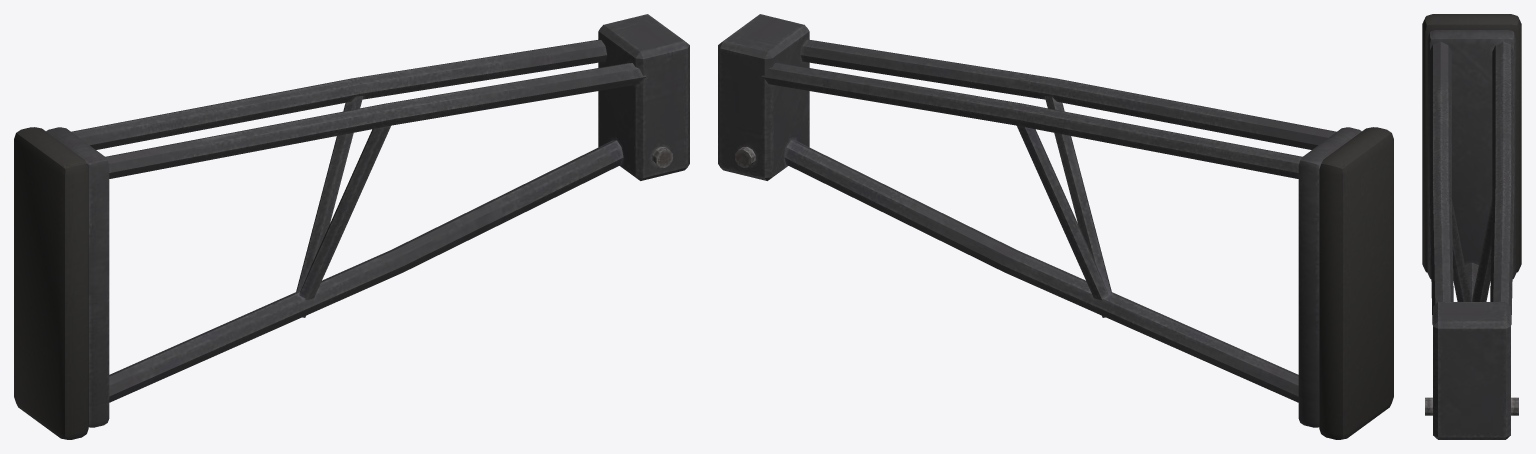
File: wire_stock.glb
The picture shows the model from 3 angles, left to right: view 1: azimuth 30°, elevation 25°; view 2: azimuth 150°, elevation 25°; view 3: azimuth 270°, elevation 25°; orthographic projection. The views are drawn at different scales.
Visible parts, largest first — view 1: wire_stock; view 2: wire_stock; view 3: wire_stock.
Boxes of the visible parts, x1=… form: wire_stock: x1=14, y1=14, x2=689, y2=439; wire_stock: x1=718, y1=14, x2=1393, y2=439; wire_stock: x1=1422, y1=14, x2=1521, y2=439.
Bounding box in the file's own units: 0.257 × 0.108 × 0.038.
1 material, 1 textured.
